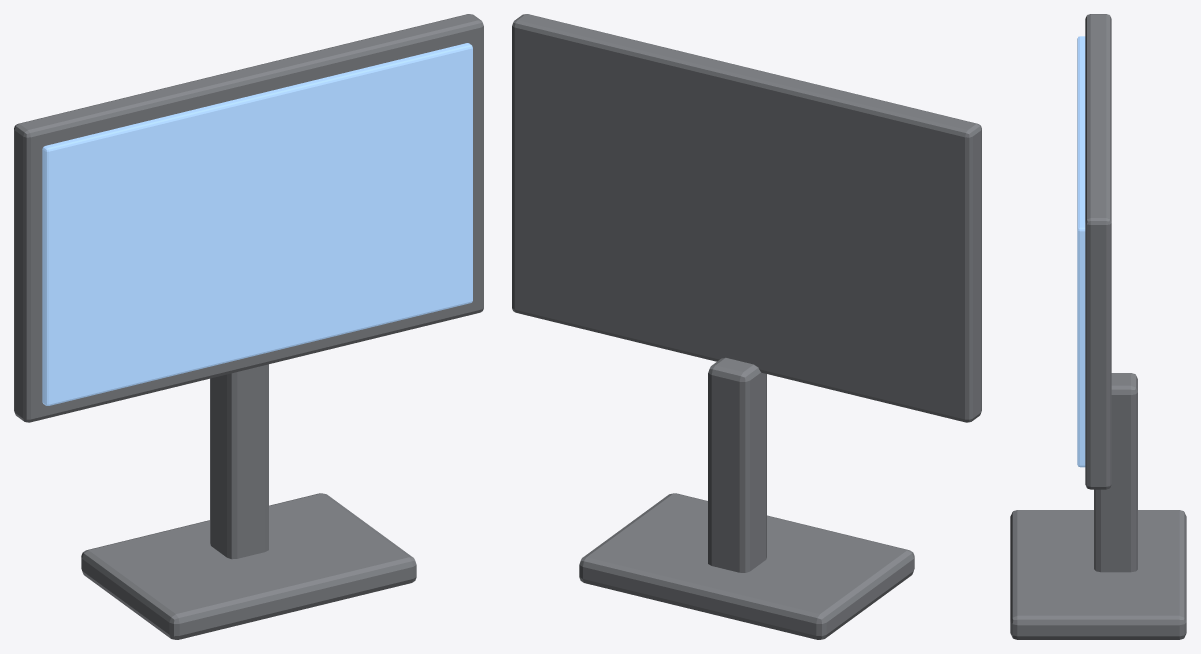
File: monitor.glb
3 views of the same model, side by side, from view 1: azimuth 30°, elevation 25°; view 2: azimuth 150°, elevation 25°; view 3: azimuth 270°, elevation 25° (orthographic). The views are drawn at different scales.
Visible parts, largest first — view 1: panel.001, bezel.001, foot.001, neck.001; view 2: bezel.001, foot.001, neck.001; view 3: foot.001, bezel.001, neck.001, panel.001.
Part boxes in pixels (bbox=[...]): panel.001: bbox=[42, 43, 472, 405]; bezel.001: bbox=[14, 14, 483, 422]; foot.001: bbox=[81, 493, 416, 639]; neck.001: bbox=[210, 364, 268, 559]; bezel.001: bbox=[512, 14, 981, 422]; foot.001: bbox=[579, 493, 914, 639]; neck.001: bbox=[708, 357, 766, 572]; foot.001: bbox=[1010, 510, 1186, 639]; bezel.001: bbox=[1085, 14, 1111, 489]; neck.001: bbox=[1094, 373, 1137, 572]; panel.001: bbox=[1077, 36, 1085, 467].
Size of the model in its own units: 0.56 by 0.59 by 0.2.
